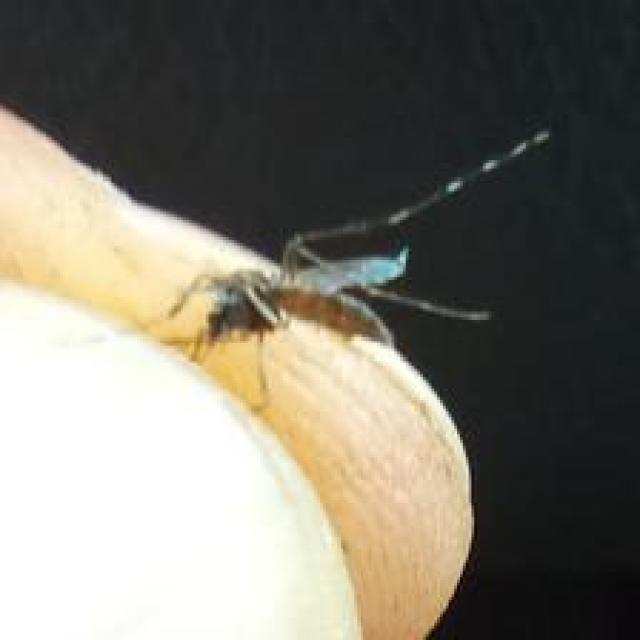Aedes albopictus: (0, 68, 554, 640)
